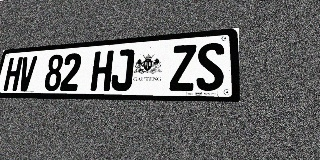2: (60, 53, 82, 91)
8: (43, 54, 65, 91)
H: (90, 50, 114, 91), (3, 57, 23, 91)
J: (110, 49, 135, 91)
S: (196, 42, 224, 91)
V: (17, 56, 37, 91)
Z: (169, 44, 196, 91)
